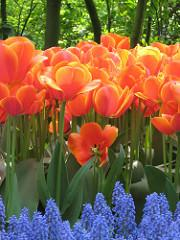tulip: (67, 122, 119, 167), (0, 36, 48, 84), (38, 66, 101, 101), (92, 85, 131, 116)
